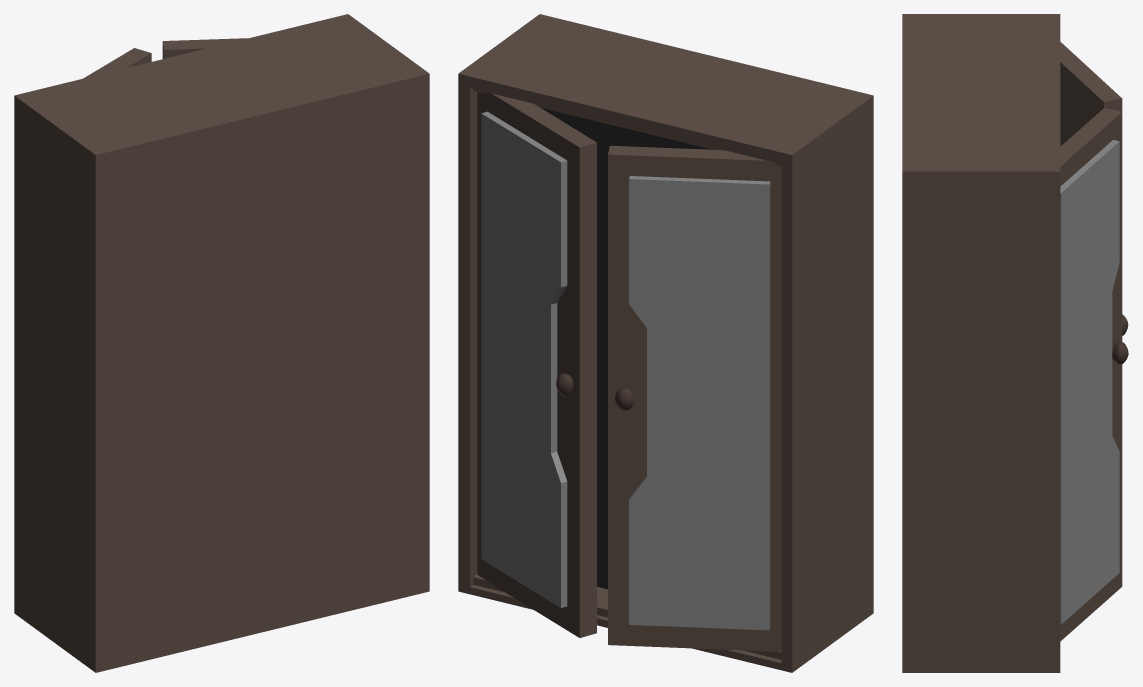
Rendered from Armoire4_1.fbx.
The picture shows the model from 3 angles, left to right: view 1: azimuth 30°, elevation 25°; view 2: azimuth 150°, elevation 25°; view 3: azimuth 270°, elevation 25°; orthographic projection. The views are drawn at different scales.
Parts seen in each view (by area): view 1: salle_de_jeu:pCube1045, salle_de_jeu:pCube1049, salle_de_jeu:pCube1048; view 2: salle_de_jeu:pCube1045, salle_de_jeu:pCube1047, salle_de_jeu:pCube1046, salle_de_jeu:pCube1048, salle_de_jeu:pCube1049, salle_de_jeu:pCube1044; view 3: salle_de_jeu:pCube1045, salle_de_jeu:pCube1046, salle_de_jeu:pCube1049, salle_de_jeu:pCube1048.
Part boxes in pixels (x1,y1,x2,y2): salle_de_jeu:pCube1045: [14, 14, 429, 672]; salle_de_jeu:pCube1049: [162, 38, 247, 58]; salle_de_jeu:pCube1048: [83, 48, 151, 78]; salle_de_jeu:pCube1045: [458, 14, 873, 672]; salle_de_jeu:pCube1047: [629, 176, 770, 630]; salle_de_jeu:pCube1046: [481, 111, 567, 607]; salle_de_jeu:pCube1048: [608, 145, 781, 651]; salle_de_jeu:pCube1049: [477, 92, 596, 637]; salle_de_jeu:pCube1044: [540, 107, 711, 589]; salle_de_jeu:pCube1045: [902, 14, 1060, 672]; salle_de_jeu:pCube1046: [1060, 140, 1119, 624]; salle_de_jeu:pCube1049: [1060, 108, 1122, 641]; salle_de_jeu:pCube1048: [1060, 42, 1122, 146].
Size of the model in its own units: 83 by 123 by 50.29.
